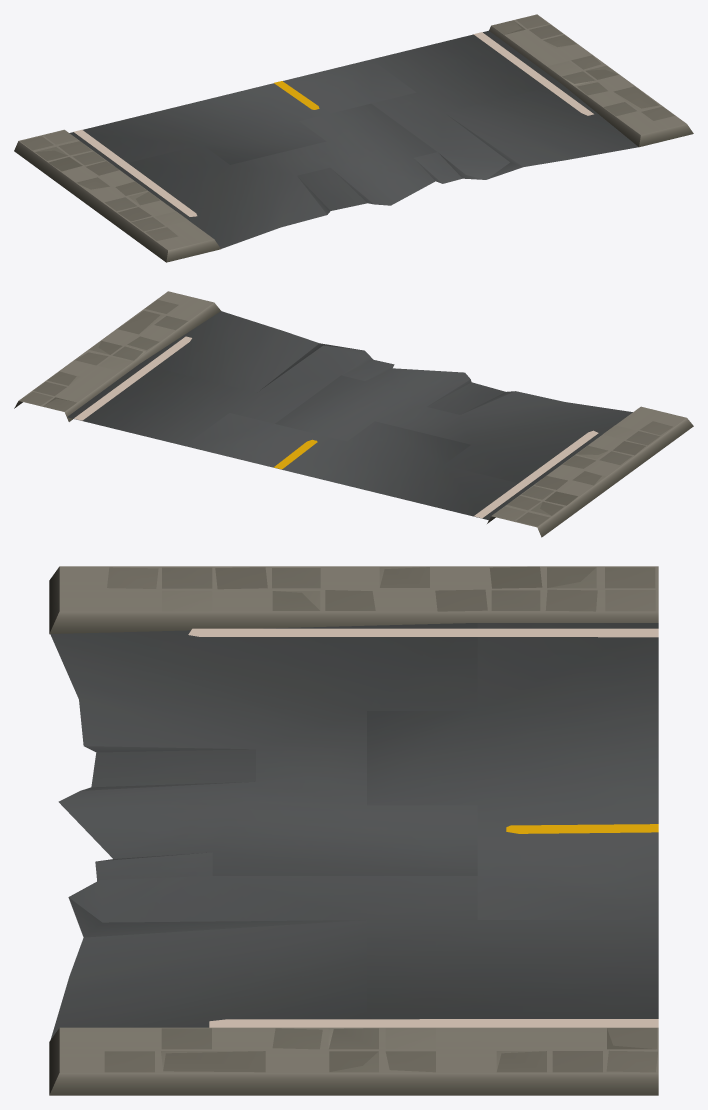
Rendered from TSP_Road_End_02A.fbx.
3 renders of one model, top to bottom at view 1: azimuth 30°, elevation 25°; view 2: azimuth 150°, elevation 25°; view 3: azimuth 270°, elevation 25°, orthographic. The views are drawn at different scales.
Parts seen in each view (by area): view 1: TSP_Road_End_02A; view 2: TSP_Road_End_02A; view 3: TSP_Road_End_02A.
Part boxes in pixels (x1,y1,x2,y2): TSP_Road_End_02A: (14, 14, 693, 262); TSP_Road_End_02A: (14, 291, 693, 537); TSP_Road_End_02A: (49, 566, 658, 1095).
Size of the model in its own units: 1200 by 21 by 600.
